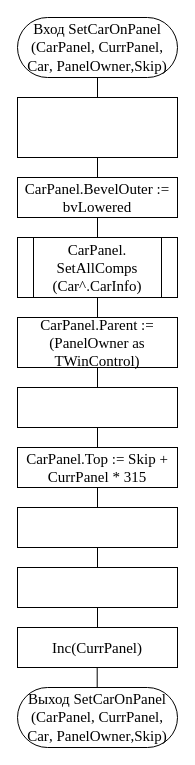
This 195x765 diagram has some shape labels left out. Here are the shapes that lost their labels. From the top down, the box of each, then its label:
(16, 96, 178, 158): CarPanel := TCarPanel.Create (PanelOwner)
(16, 386, 178, 428): CarPanel.Left := -1
(16, 506, 178, 548): CarPanel.Height := 276
(16, 566, 178, 608): CarPanel.Width := 1124
